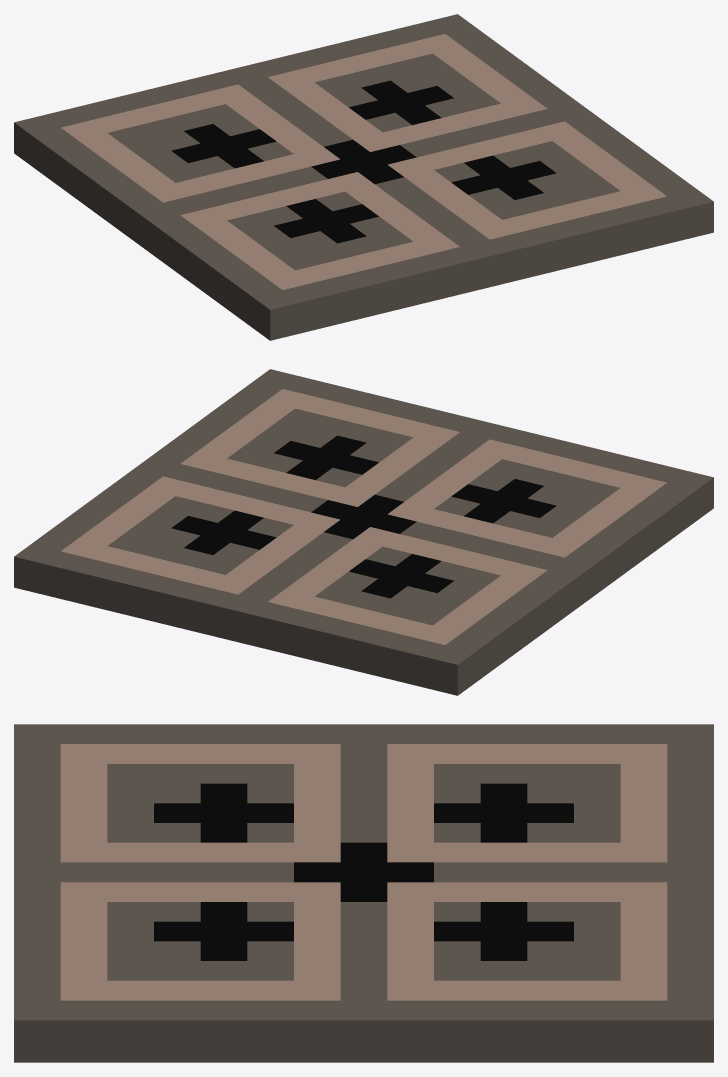
Rendered from dungeon_a_a_ground_c_b.obj.
3 views of the same model, one above another, from view 1: azimuth 30°, elevation 25°; view 2: azimuth 150°, elevation 25°; view 3: azimuth 270°, elevation 25° (orthographic). The views are drawn at different scales.
Size of the model in its own units: 1.5 by 0.1 by 1.5.
1 material, 1 textured.
